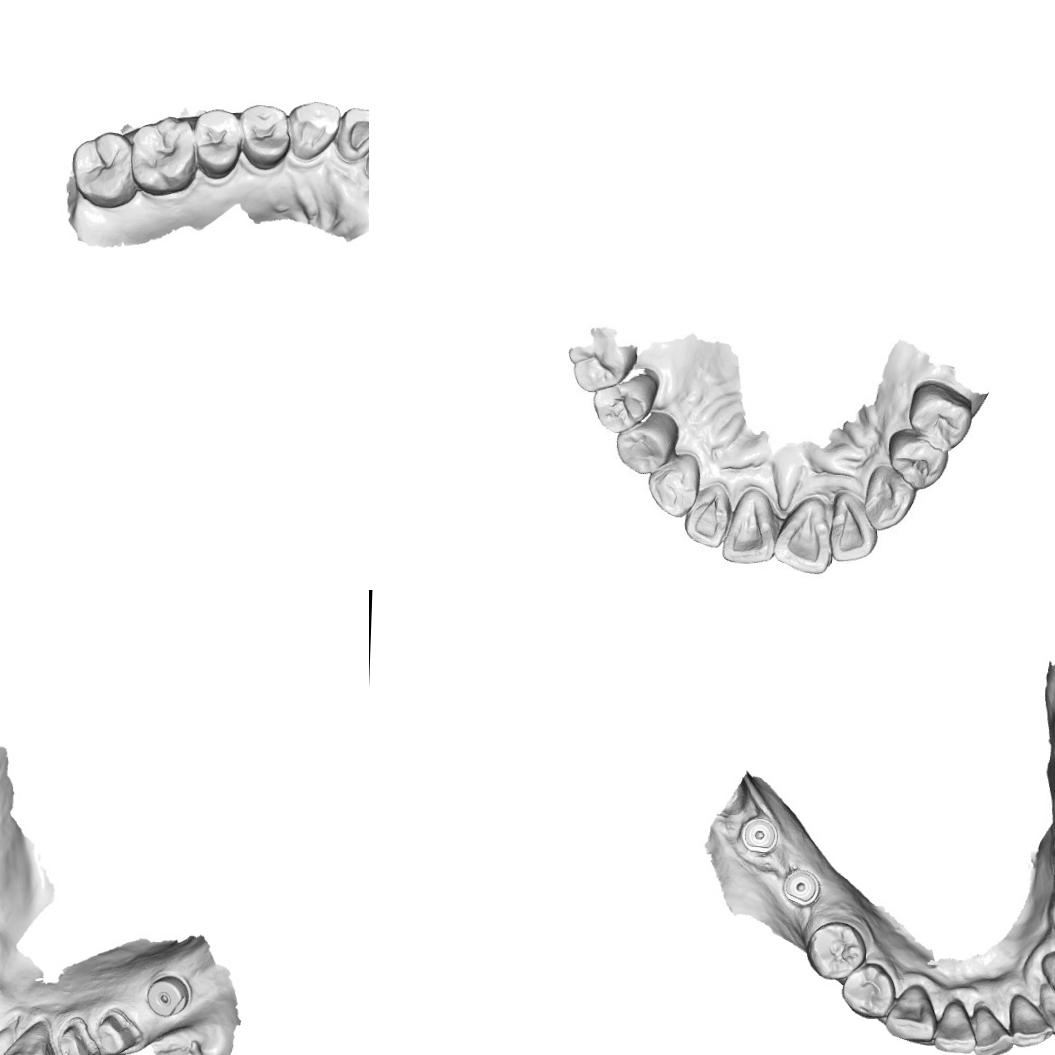canine: (862, 464, 918, 534), (644, 452, 702, 519), (286, 98, 342, 164), (881, 982, 936, 1044), (0, 1016, 54, 1055), (1037, 948, 1055, 1009)
crown: (95, 1006, 141, 1055), (56, 1021, 94, 1055)
implant: (146, 974, 192, 1020), (737, 812, 778, 855), (780, 868, 822, 909)
incisor: (770, 492, 838, 576), (719, 484, 777, 568), (828, 489, 880, 564), (682, 483, 732, 549), (1006, 991, 1054, 1050), (932, 997, 979, 1055), (967, 1002, 1015, 1055), (333, 105, 369, 165), (1036, 985, 1055, 1040)
molar: (127, 113, 198, 198), (69, 128, 139, 210)
premolar: (906, 379, 976, 454), (589, 370, 666, 436), (614, 409, 681, 476), (886, 426, 950, 492), (190, 106, 244, 182), (803, 919, 866, 983), (237, 102, 290, 172), (838, 960, 896, 1022)
